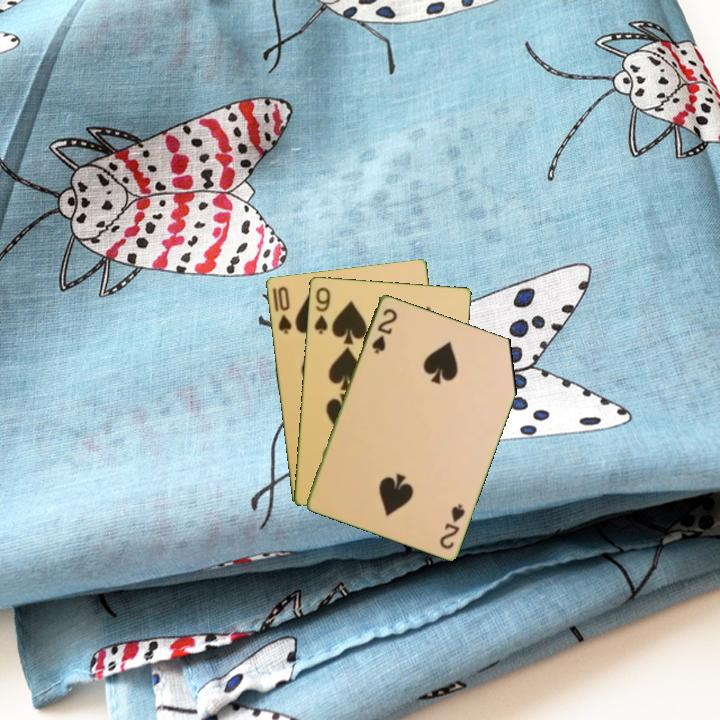10s: (274, 283, 294, 337)
2s: (368, 304, 400, 356), (436, 500, 468, 552)
9s: (310, 284, 333, 337)
